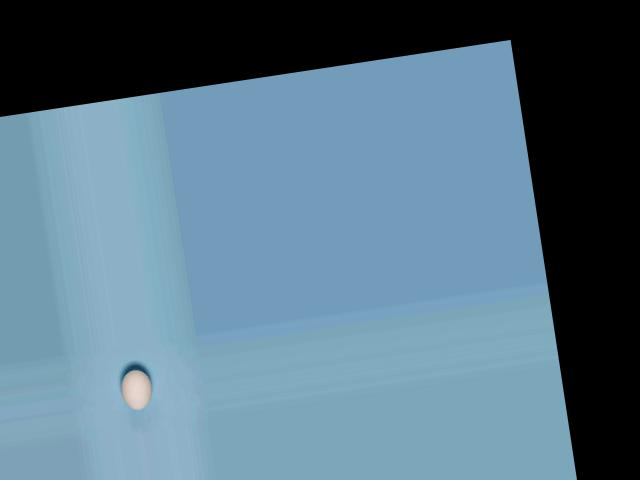egg: (118, 367, 154, 412)
